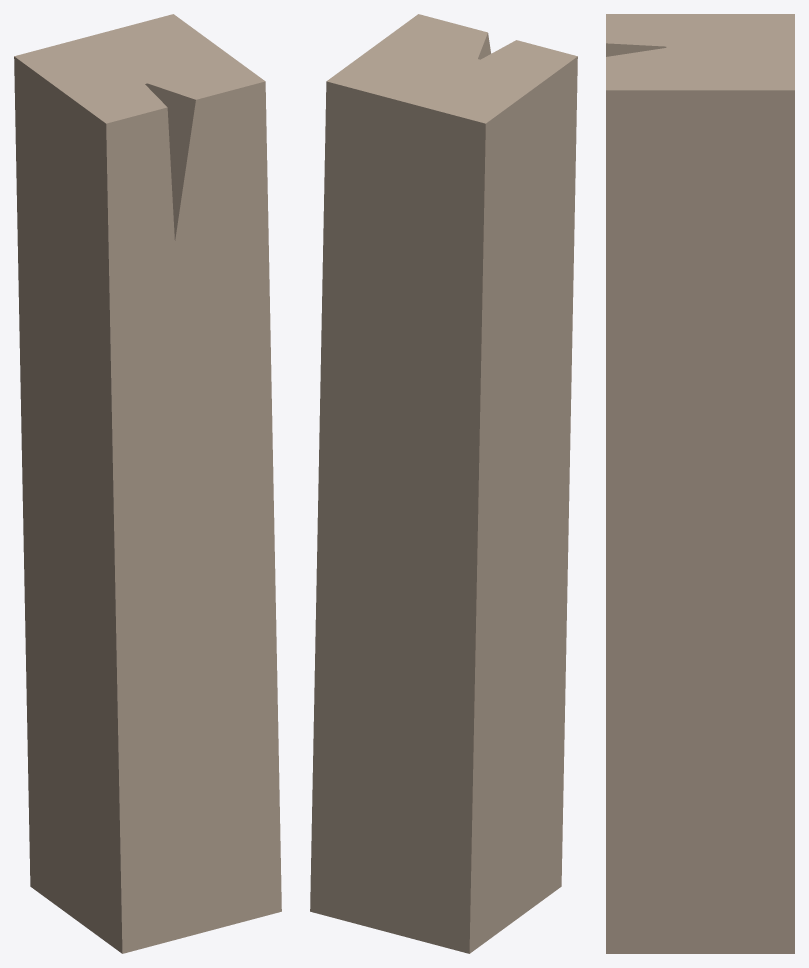
File: Hilly_Prop_Fence_Post_3.glb
3 renders of one model, left to right at view 1: azimuth 30°, elevation 25°; view 2: azimuth 150°, elevation 25°; view 3: azimuth 270°, elevation 25°, orthographic. The views are drawn at different scales.
Visible parts, largest first — view 1: Hilly_Prop_Fence_Post_3; view 2: Hilly_Prop_Fence_Post_3; view 3: Hilly_Prop_Fence_Post_3.
Part boxes in pixels (x1=…): Hilly_Prop_Fence_Post_3: x1=14, y1=14, x2=281, y2=953; Hilly_Prop_Fence_Post_3: x1=310, y1=14, x2=577, y2=953; Hilly_Prop_Fence_Post_3: x1=606, y1=14, x2=794, y2=953.
Size of the model in its own units: 0.0876 by 0.399 by 0.0795.
